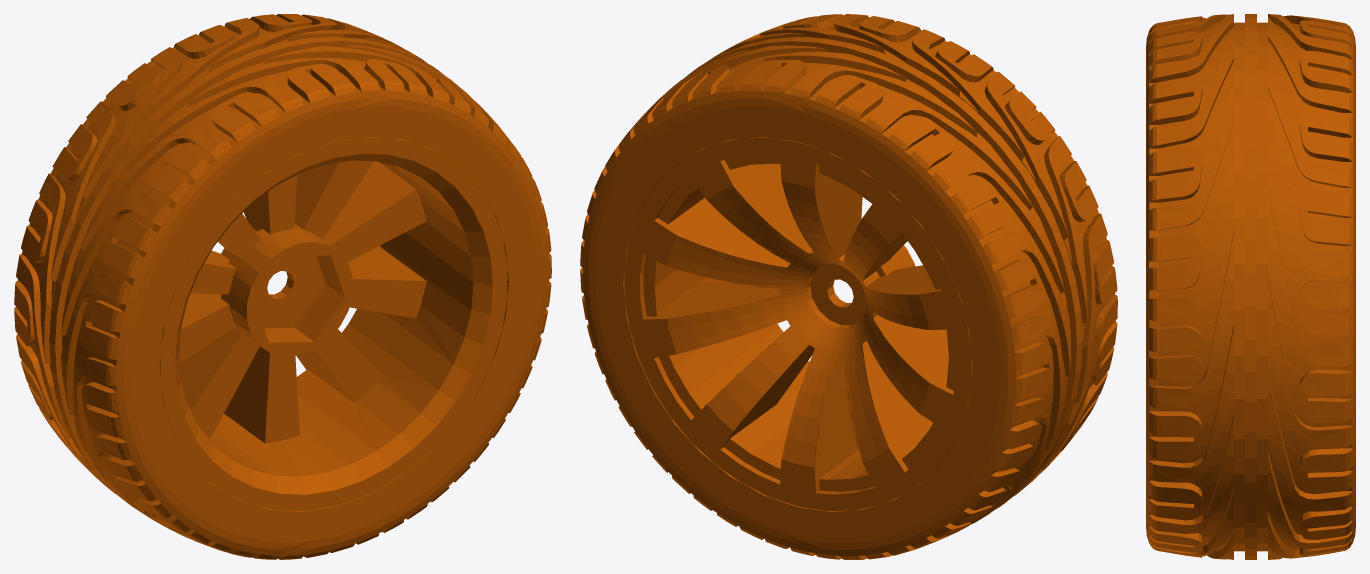
Rendered from back_left_link.dae.
3 views of the same model, side by side, from view 1: azimuth 30°, elevation 25°; view 2: azimuth 150°, elevation 25°; view 3: azimuth 270°, elevation 25° (orthographic). The views are drawn at different scales.
Parts seen in each view (by area): view 1: back_left_link; view 2: back_left_link; view 3: back_left_link.
Boxes of the visible parts, x1=… form: back_left_link: x1=14, y1=14, x2=551, y2=559; back_left_link: x1=580, y1=14, x2=1117, y2=559; back_left_link: x1=1146, y1=14, x2=1355, y2=559.
Bounding box in the file's own units: 0.069 × 0.0265 × 0.069.
